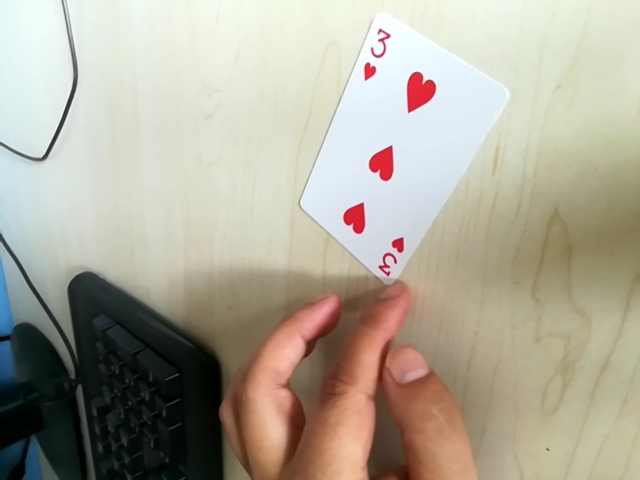hx 3: (360, 15, 398, 81), (368, 234, 412, 281)
